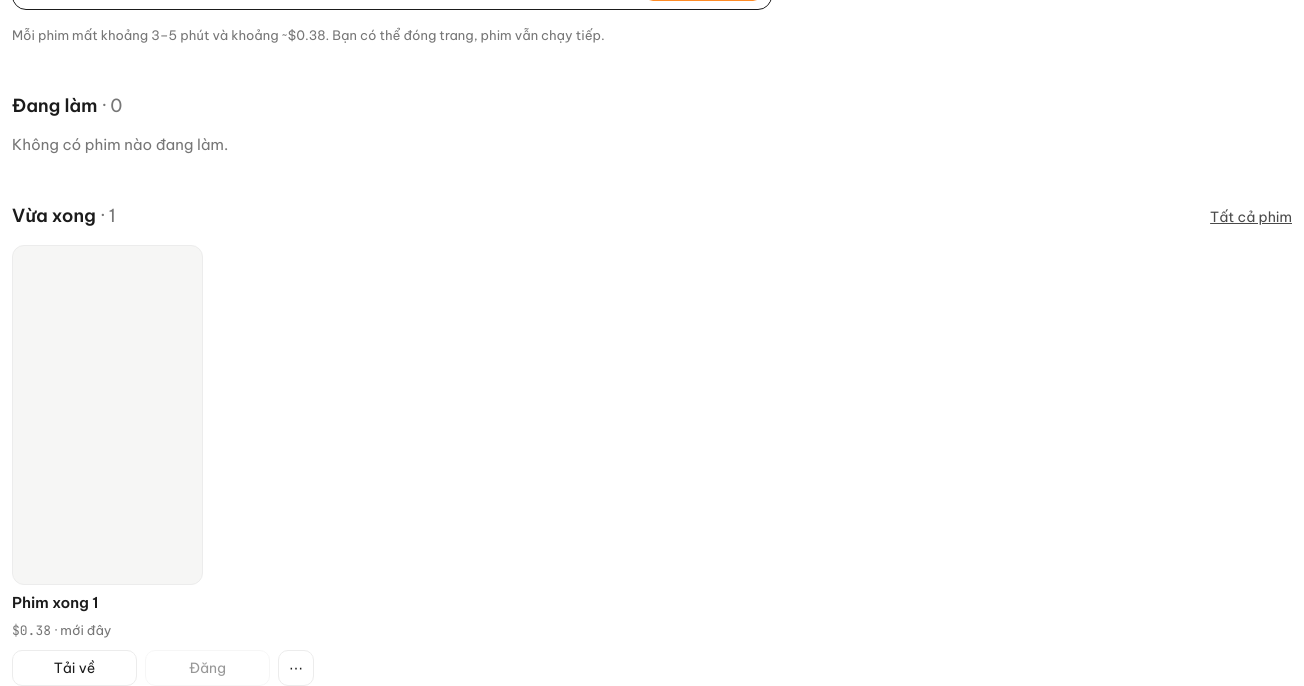
overview: finished › a card downloads the final video, cannot publish yet, and its menu leads to the redo box
(page scrolled)
Expected: the button "Đăng" is disabled, [145, 650, 270, 685]
Expected: the element "Phim xong 1" shows "$0.38 ·", [12, 245, 314, 685]
Click the button named "Thêm" at (296, 668), box [278, 650, 314, 685]
(page scrolled)
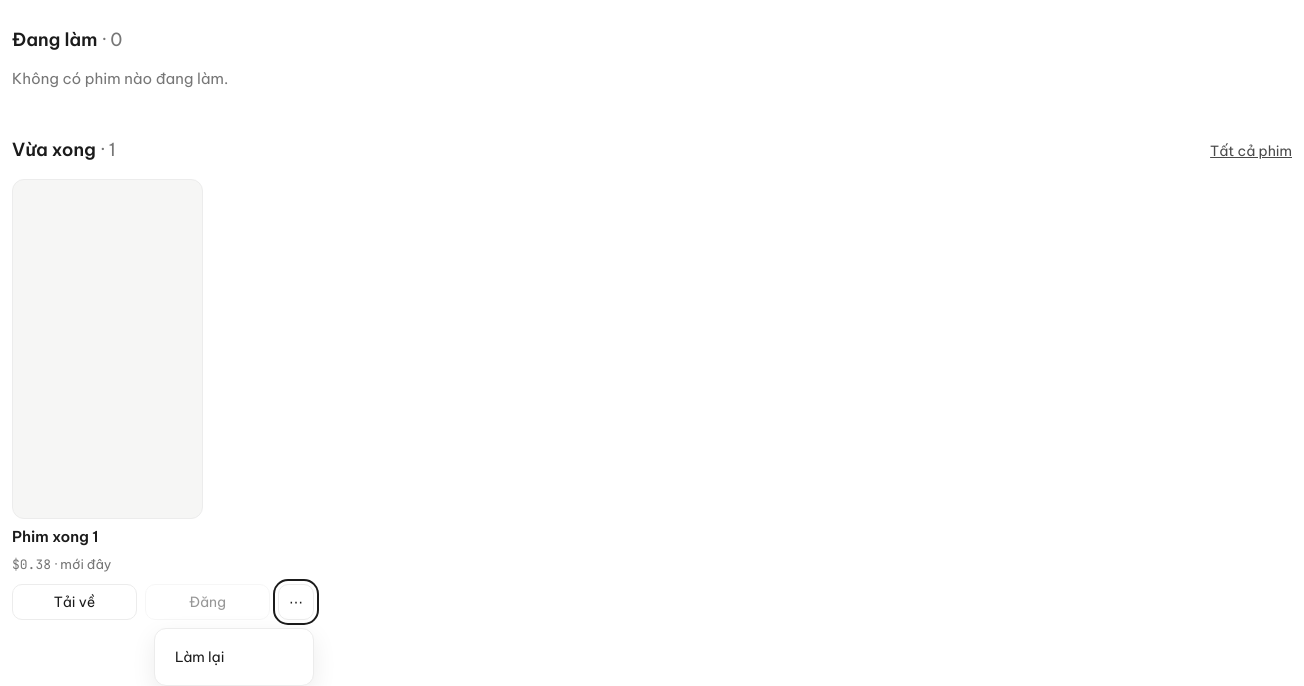
Press Escape
(page scrolled)
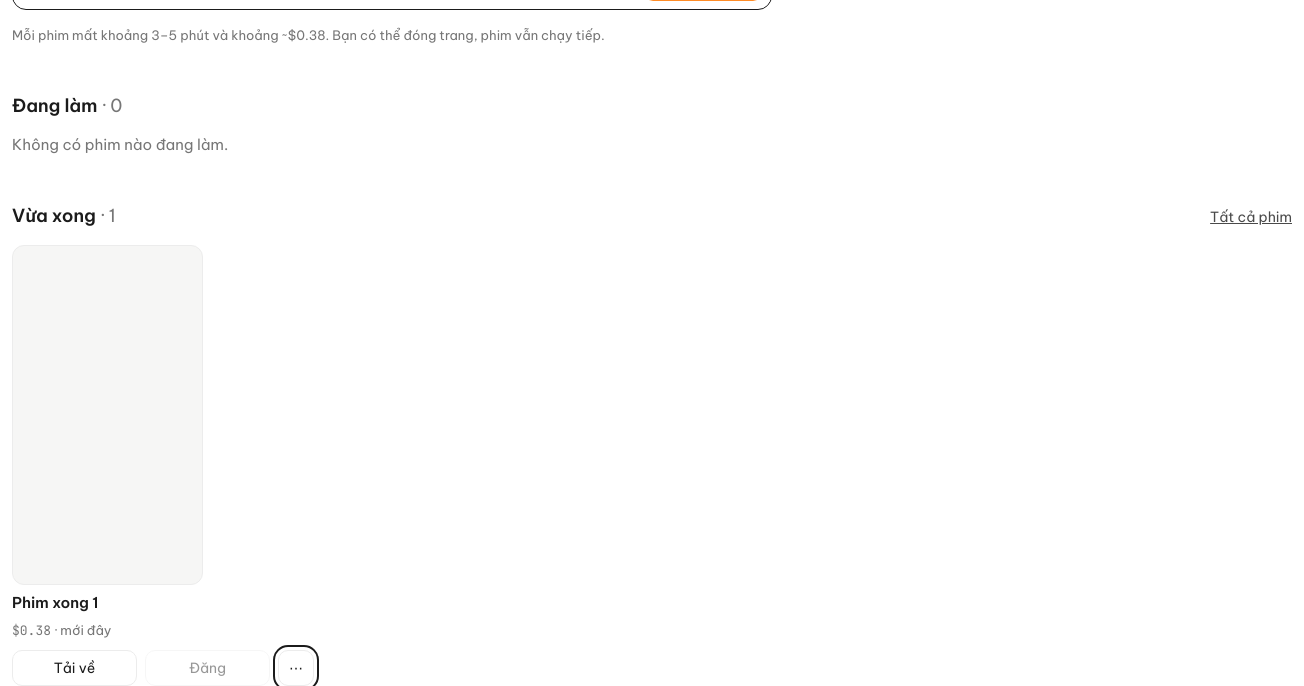
Result: the link "Làm lại" is gone
